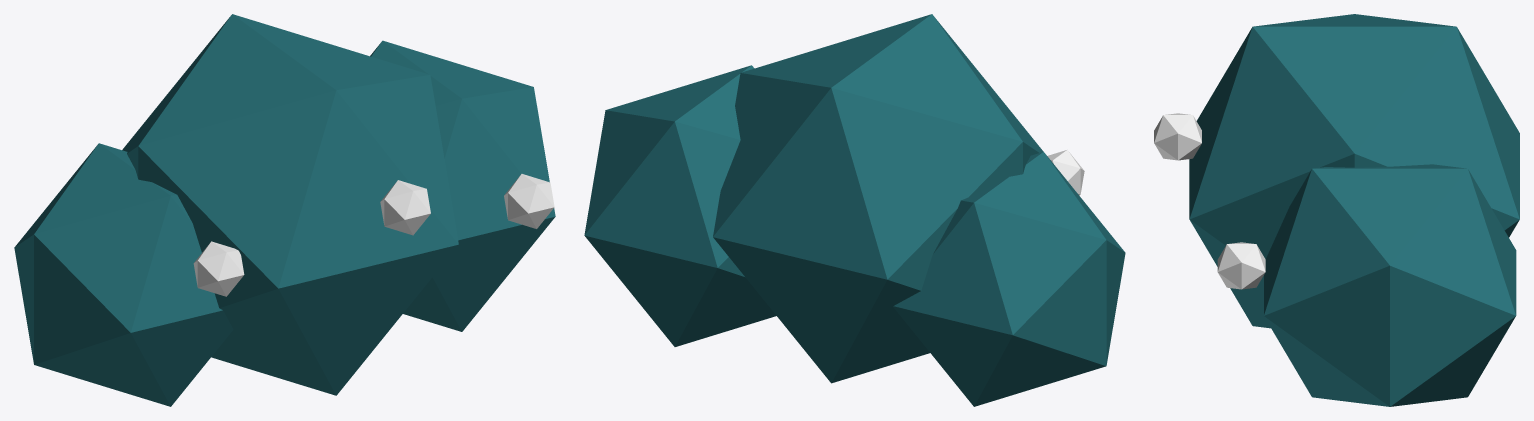
File: bush.glb
3 views of the same model, side by side, from view 1: azimuth 30°, elevation 25°; view 2: azimuth 150°, elevation 25°; view 3: azimuth 270°, elevation 25° (orthographic). The views are drawn at different scales.
Visible parts, largest first — view 1: A, C, B, F0, F1, F2; view 2: A, C, B, F2; view 3: A, B, F1, F0.
Boxes of the visible parts, x1=… form: A: x1=122, y1=14, x2=458, y2=395; C: x1=14, y1=143, x2=233, y2=406; B: x1=370, y1=40, x2=555, y2=331; F0: x1=380, y1=180, x2=430, y2=235; F1: x1=504, y1=174, x2=554, y2=228; F2: x1=193, y1=241, x2=244, y2=296; A: x1=713, y1=14, x2=1043, y2=383; C: x1=893, y1=151, x2=1125, y2=406; B: x1=584, y1=65, x2=776, y2=346; F2: x1=1047, y1=150, x2=1084, y2=195; A: x1=1189, y1=14, x2=1519, y2=328; B: x1=1264, y1=164, x2=1516, y2=406; F1: x1=1217, y1=242, x2=1265, y2=289; F0: x1=1154, y1=113, x2=1201, y2=160.
Bounding box in the file's own units: 1.63 × 0.9357 × 1.04.
